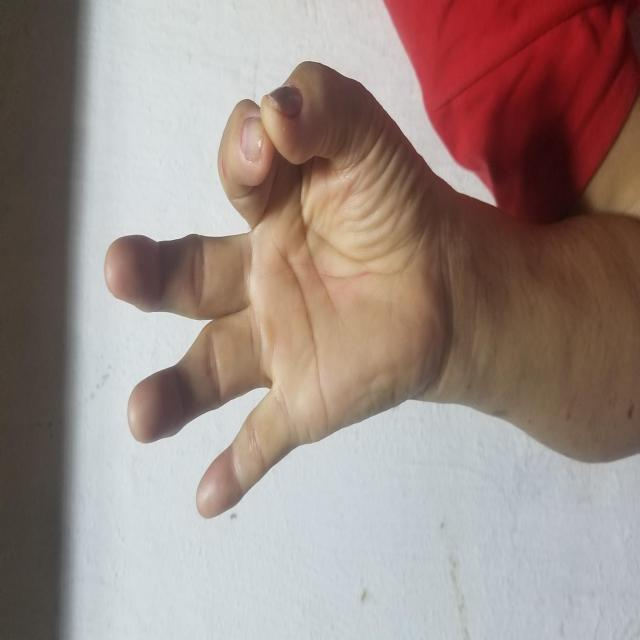F: (123, 103, 579, 442)
